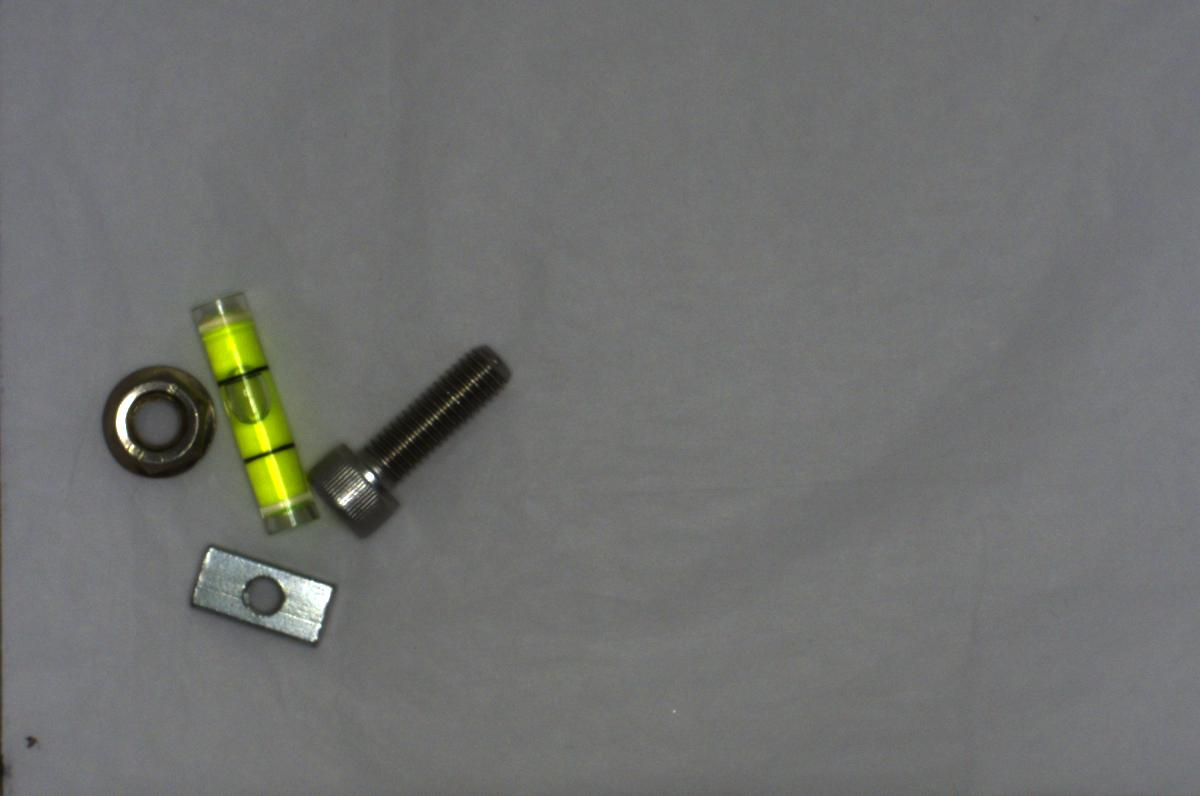Flange nut: (97, 355, 220, 485)
Hexagon screw: (302, 335, 508, 535)
Horizontal bubble: (191, 285, 317, 540)
Rectangular nut: (180, 538, 341, 645)
